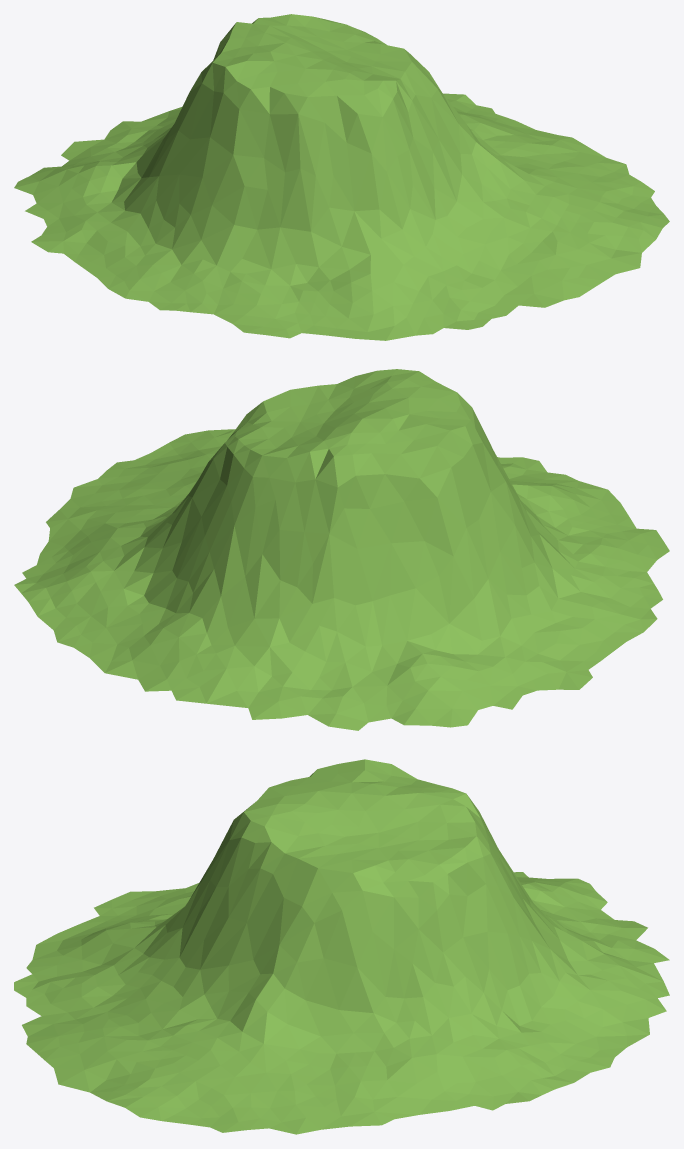
Rendered from MT_Mountain_L_b_23_LOD.fbx.
3 views of the same model, one above another, from view 1: azimuth 30°, elevation 25°; view 2: azimuth 150°, elevation 25°; view 3: azimuth 270°, elevation 25° (orthographic). The views are drawn at different scales.
Visible parts, largest first — view 1: MT_Mountain_L_b_23_LOD0; view 2: MT_Mountain_L_b_23_LOD0; view 3: MT_Mountain_L_b_23_LOD0.
Part boxes in pixels (x1,y1,x2,y2): MT_Mountain_L_b_23_LOD0: (14, 14, 669, 340); MT_Mountain_L_b_23_LOD0: (14, 369, 669, 730); MT_Mountain_L_b_23_LOD0: (14, 759, 669, 1134).
Size of what is drawn, in the model's own units: 8403 by 2602 by 8359.
